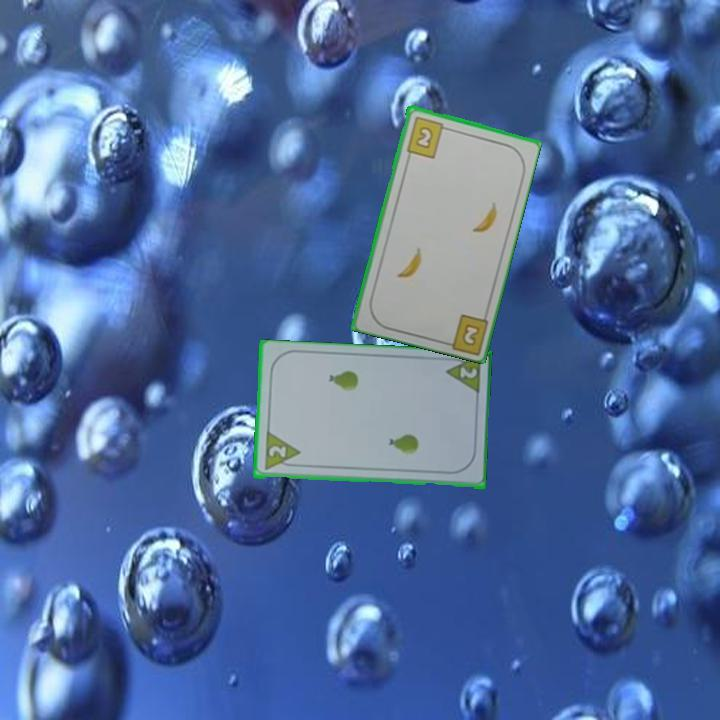2b: (403, 113, 452, 160), (458, 320, 482, 349)
2p: (261, 430, 302, 473), (456, 364, 480, 382)
